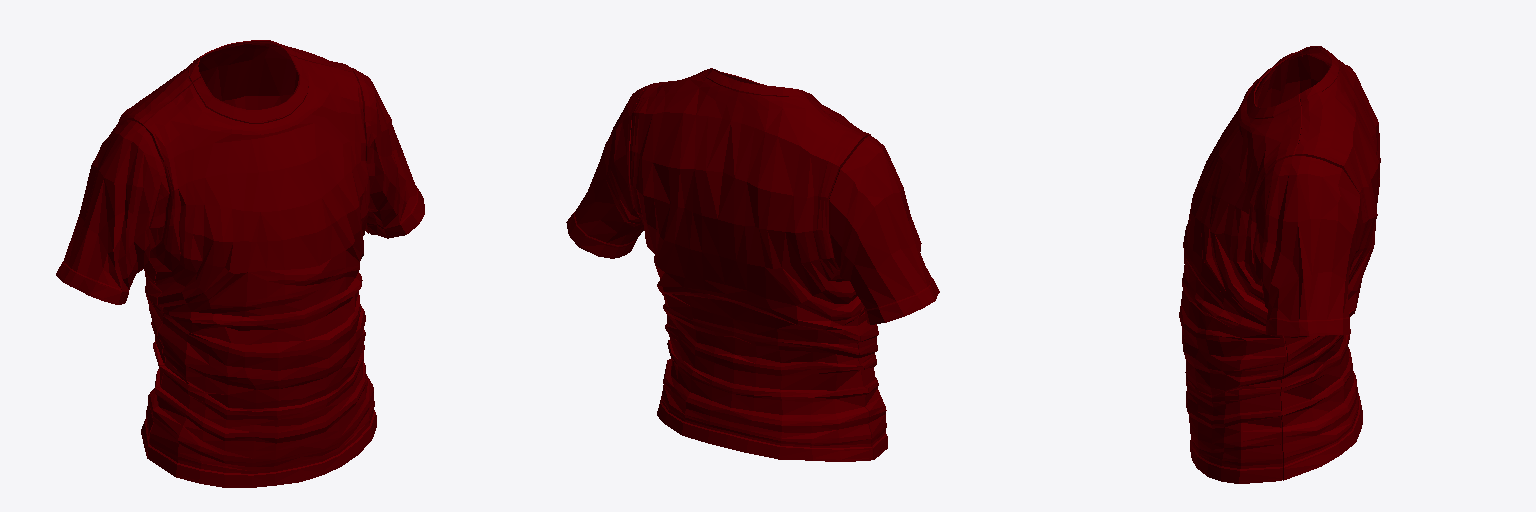
The model's file is red-shirt.obj.
3 views of the same model, side by side, from view 1: azimuth 30°, elevation 25°; view 2: azimuth 150°, elevation 25°; view 3: azimuth 270°, elevation 25° (orthographic).
Size of the model in its own units: 17.39 by 17.87 by 8.43.